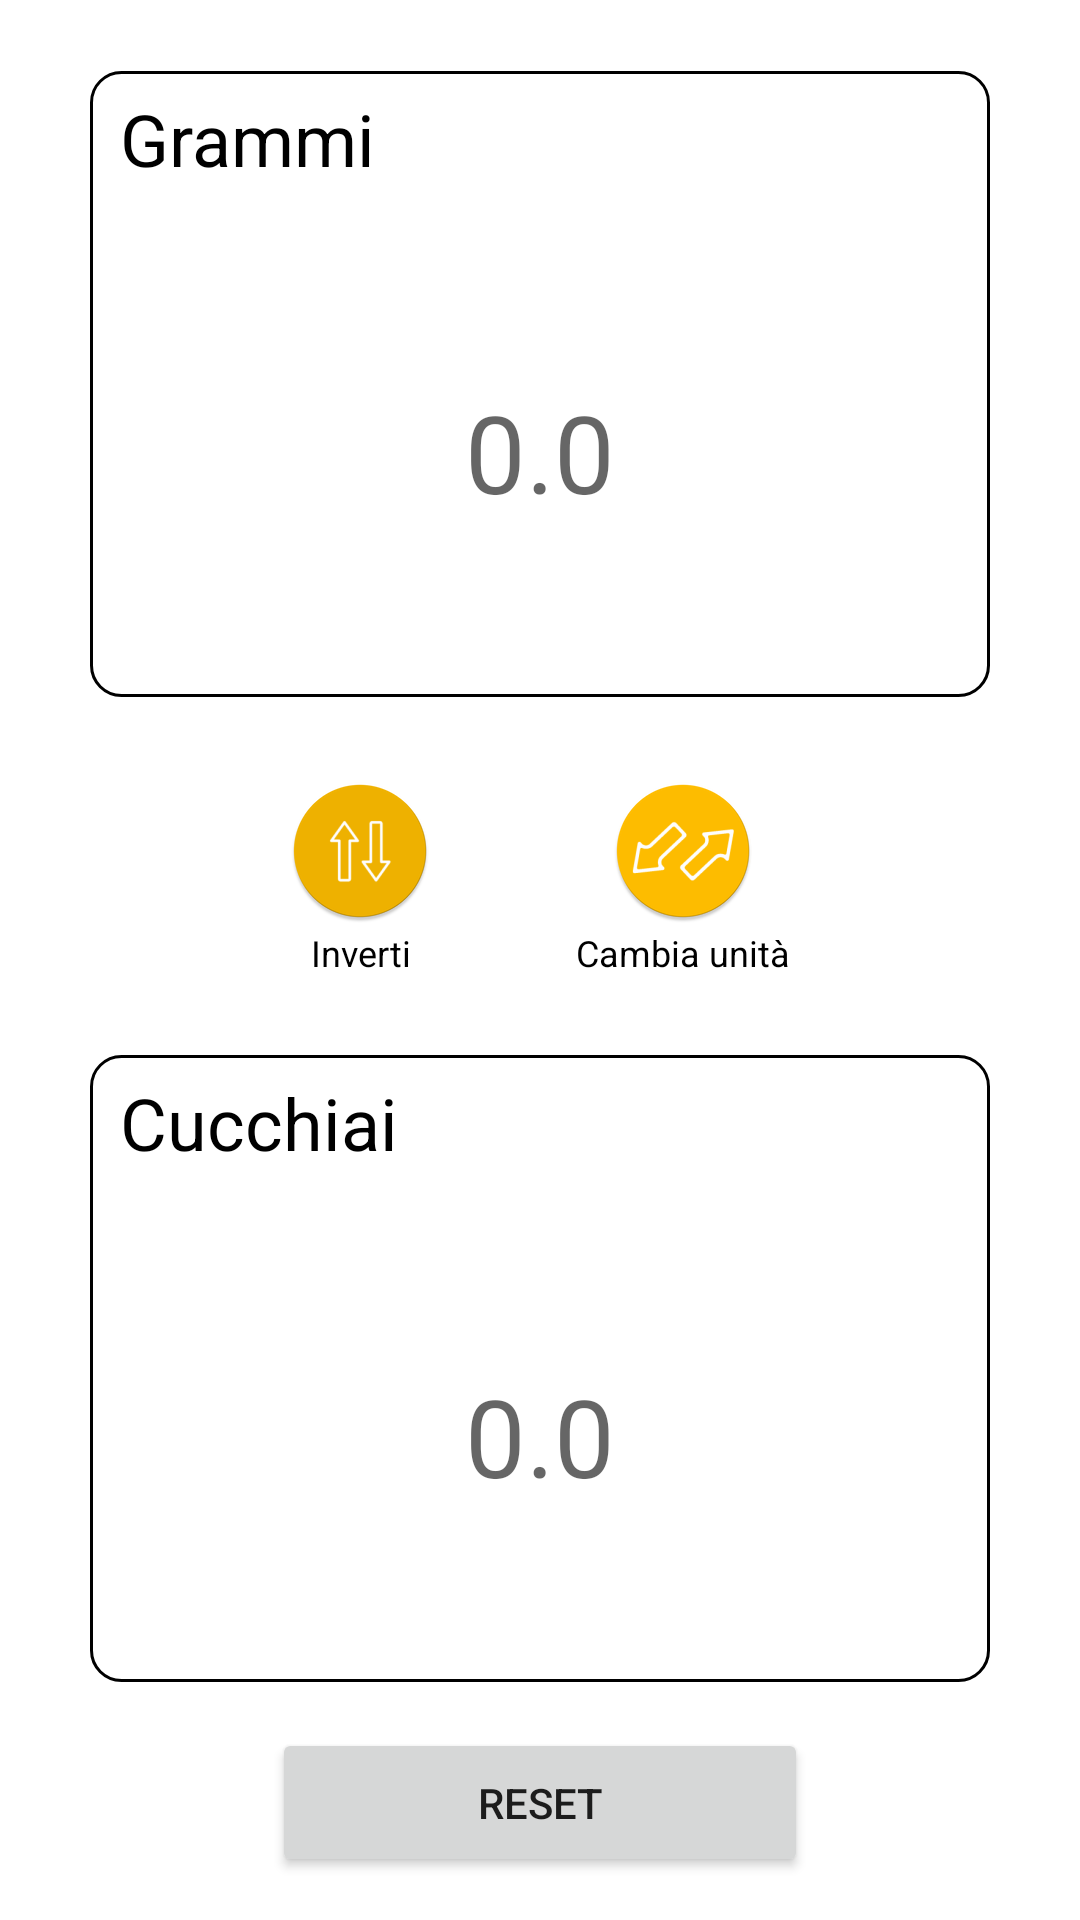

Named icons in this screenshot (1080*1920) and their centers, (x,y):
Converter icon: (360,852)
